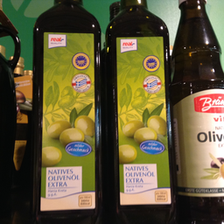oil: (31, 2, 103, 224), (104, 1, 175, 223), (168, 1, 224, 221)
